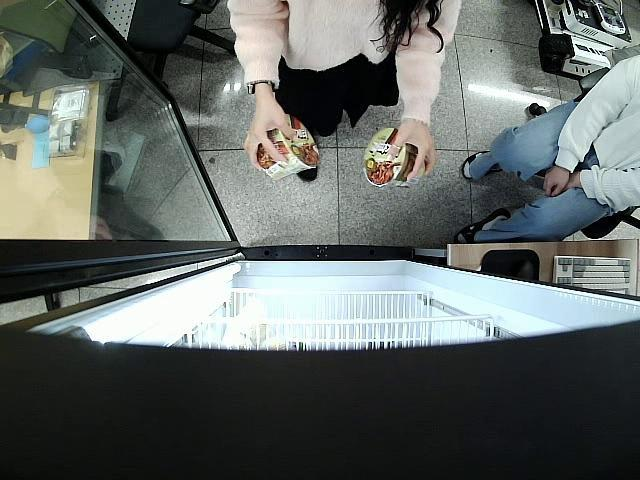03_chapagetti_L: (256, 114, 319, 182), (366, 129, 426, 188)
